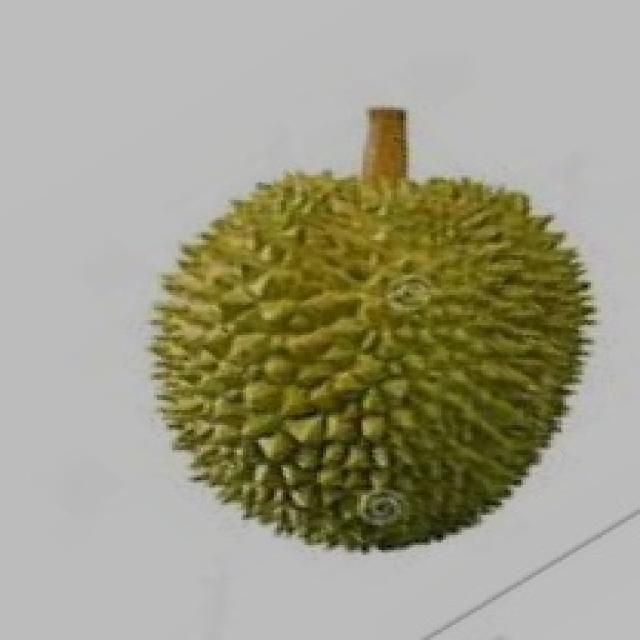fruit: (101, 170, 462, 602), (283, 150, 631, 592)
